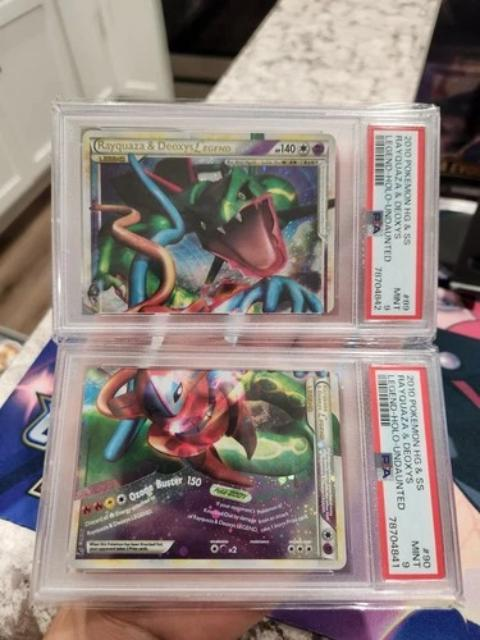Card: (63, 364, 350, 574), (79, 126, 338, 316)
Name: (90, 135, 235, 156), (312, 381, 334, 450)
